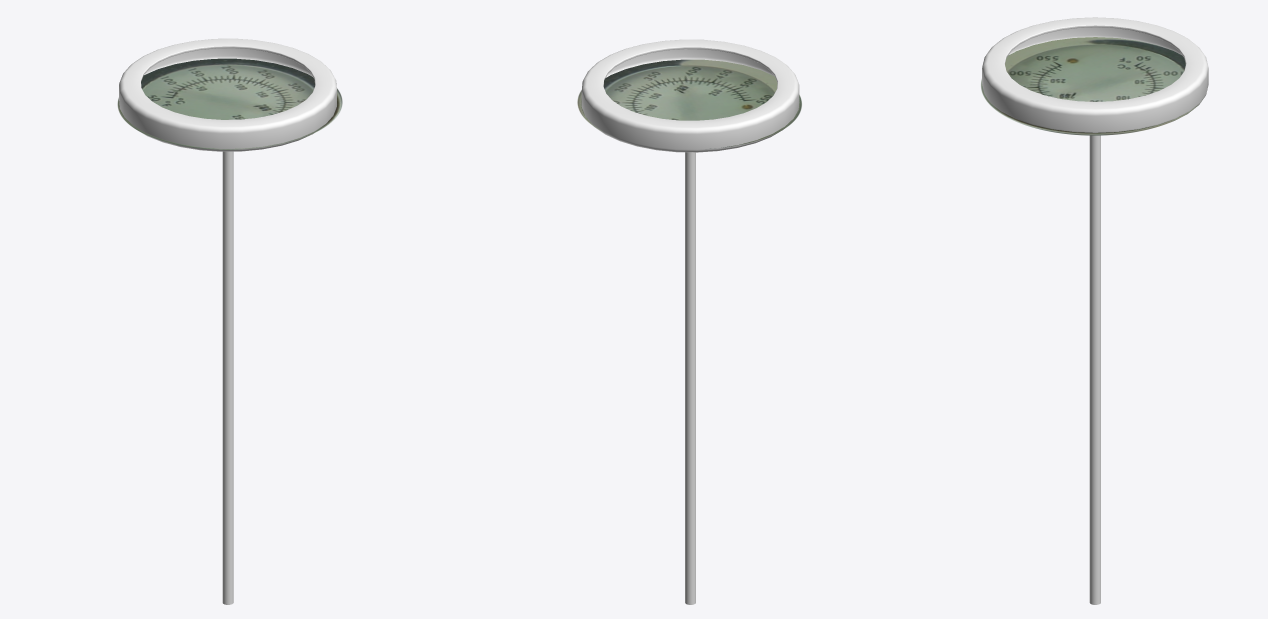
Rendered from thermometer3.glb.
3 views of the same model, side by side, from view 1: azimuth 30°, elevation 25°; view 2: azimuth 150°, elevation 25°; view 3: azimuth 270°, elevation 25° (orthographic). The views are drawn at different scales.
Parts seen in each view (by area): view 1: gauge2, image; view 2: gauge2, image; view 3: gauge2, image.
Part boxes in pixels (<box>): gauge2: <box>119,38,336,604</box>; image: <box>117,58,342,149</box>; gauge2: <box>581,39,799,604</box>; image: <box>577,59,801,148</box>; gauge2: <box>982,17,1208,604</box>; image: <box>981,37,1203,135</box>.
Bounding box in the file's own units: 5.38 × 9.63 × 5.18.
Materials: 2 (2 with a texture image).
